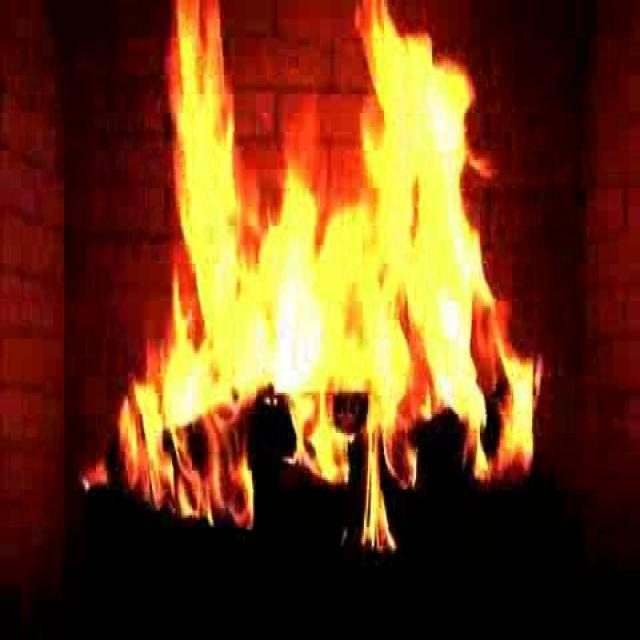Fire: (93, 0, 616, 539)
